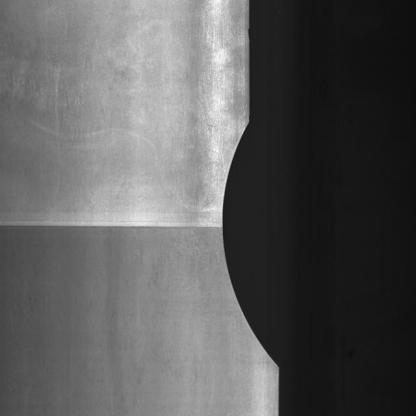crescent_gap: (218, 114, 289, 378)
welding_line: (2, 212, 221, 238)
